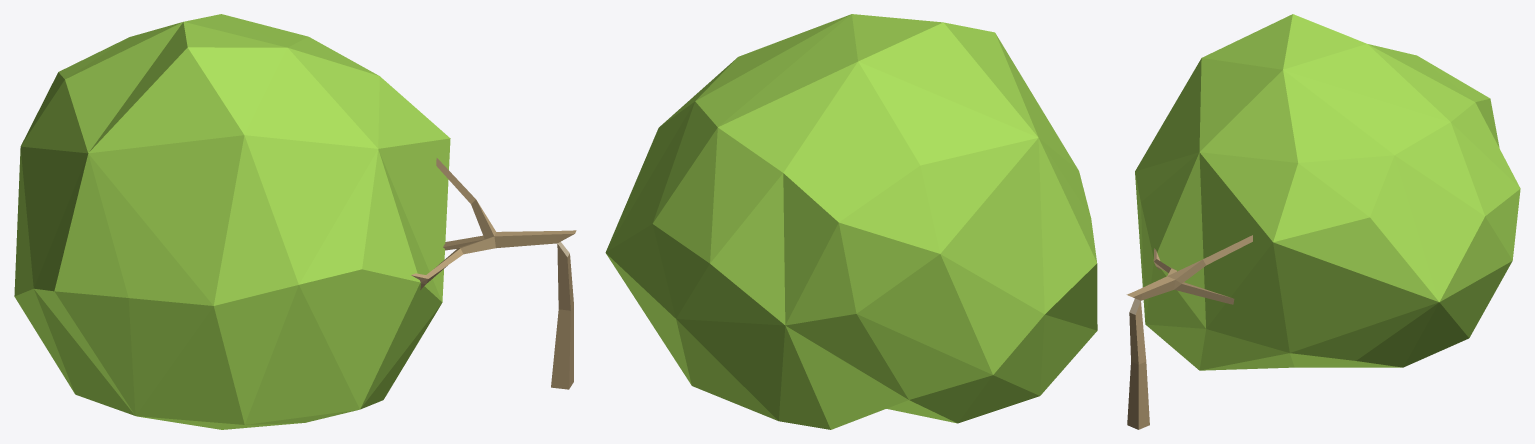
File: Apple_Tree_crk_s_BT_01.fbx
3 renders of one model, left to right at view 1: azimuth 30°, elevation 25°; view 2: azimuth 150°, elevation 25°; view 3: azimuth 270°, elevation 25°, orthographic. The views are drawn at different scales.
Parts seen in each view (by area): view 1: Apple_Tree_crk_s_BT_01; view 2: Apple_Tree_crk_s_BT_01; view 3: Apple_Tree_crk_s_BT_01.
Part boxes in pixels (bbox=[...]): Apple_Tree_crk_s_BT_01: bbox=[14, 14, 576, 429]; Apple_Tree_crk_s_BT_01: bbox=[605, 14, 1097, 429]; Apple_Tree_crk_s_BT_01: bbox=[1126, 14, 1520, 429].
Size of the model in its own units: 228 by 177 by 208.
